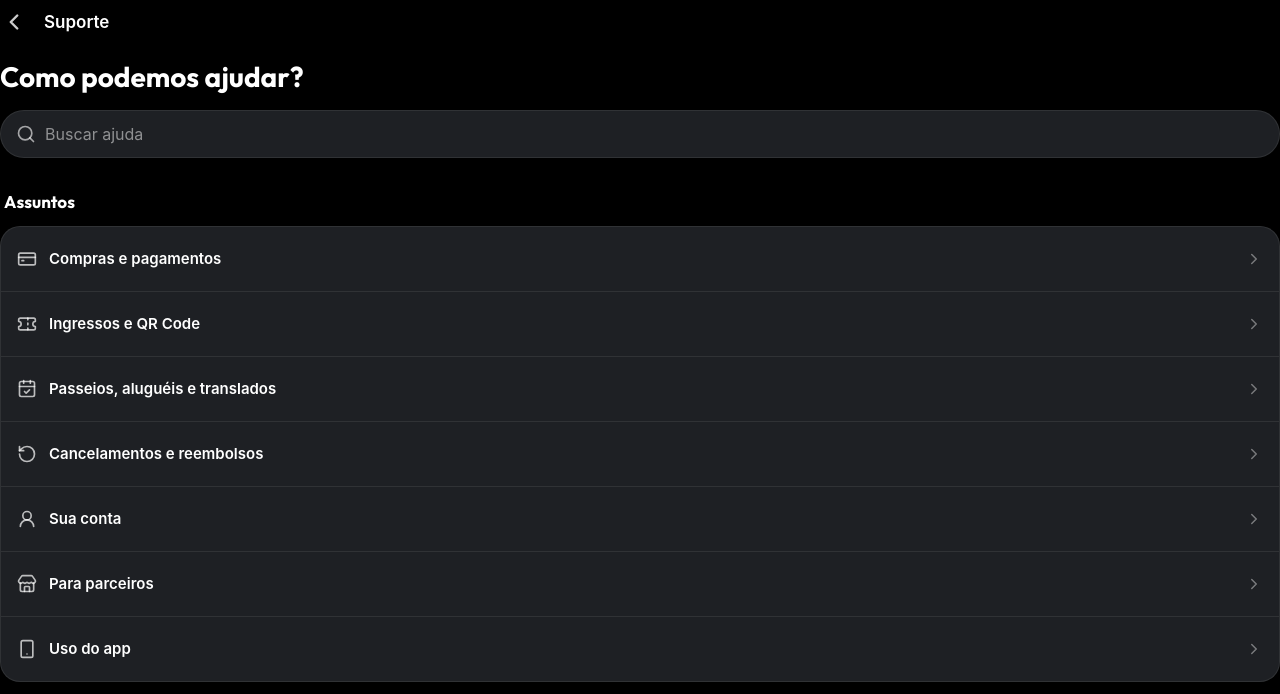
Scenario: SupportView › busca sem acento e mostra só os resultados
The width and height of the screenshot is (1280, 694).
Type "reembolso" into the search field named "Buscar nas perguntas".
click(640, 134); type("reembolso")  # box [0,110,1279,158]
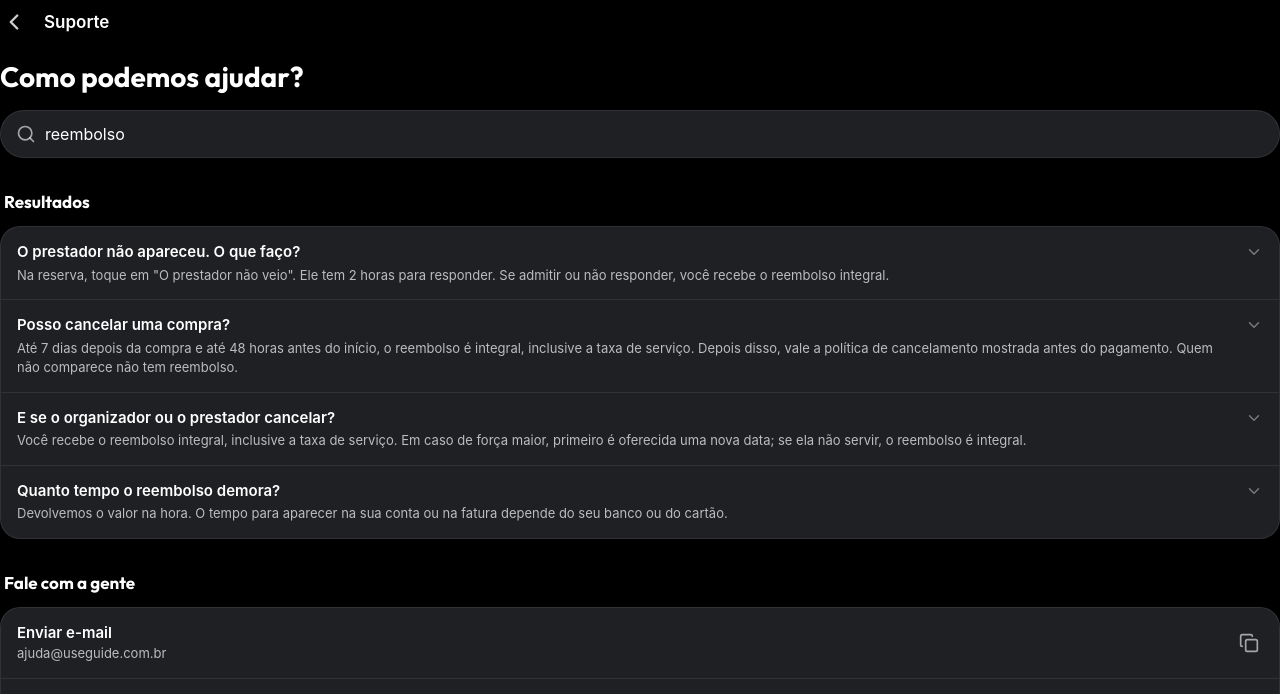
Check: the button "Quanto tempo o reembolso demora?" is shown, box [1,466,1279,538]
Check: the heading "Resultados" is shown, box [4,191,90,212]
Check: the heading "Assuntos" is gone
